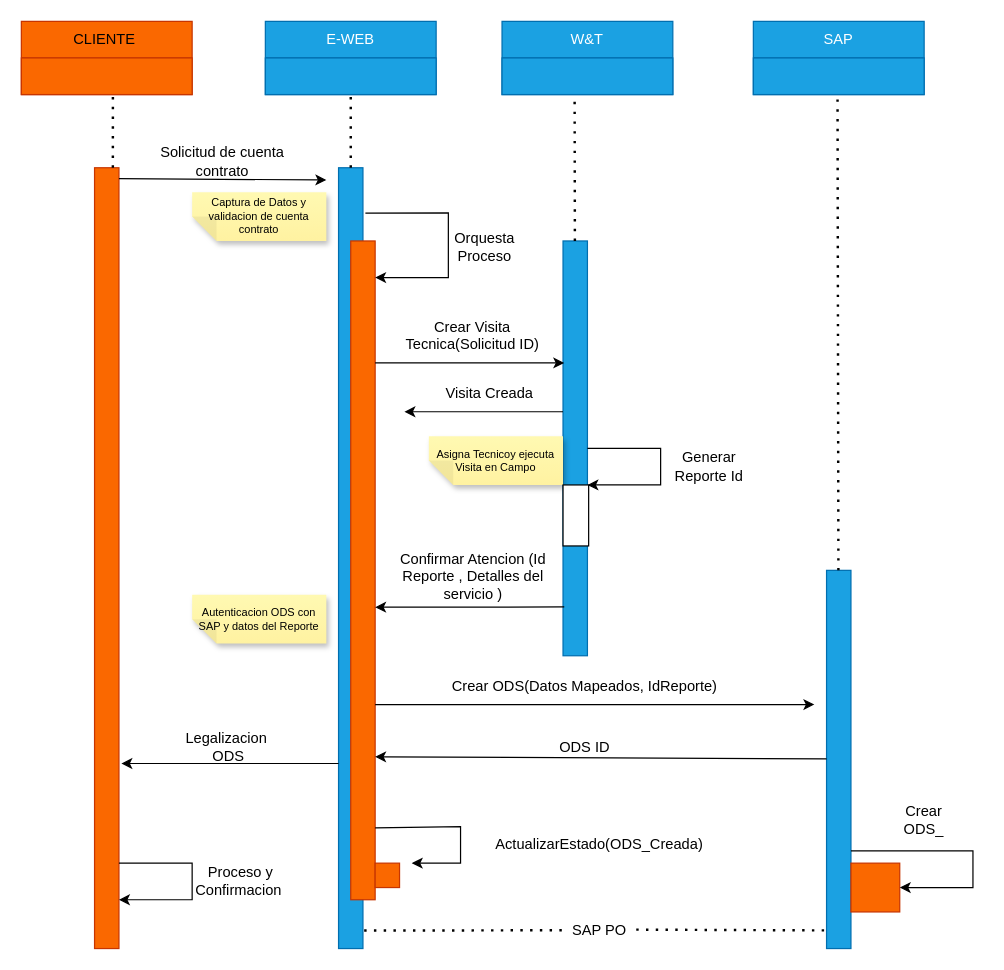
This 1004x970 diagram has some shape labels left out. The shapes that lost their labels are listed below. From the top down, each one's centre as x and y in pixels, then its label:
(x=106, y=76): Llamada de Emergencia
(x=350, y=76): Orquestador
(x=587, y=76): Gestion de Campo
(x=838, y=76): Registro de ODS
